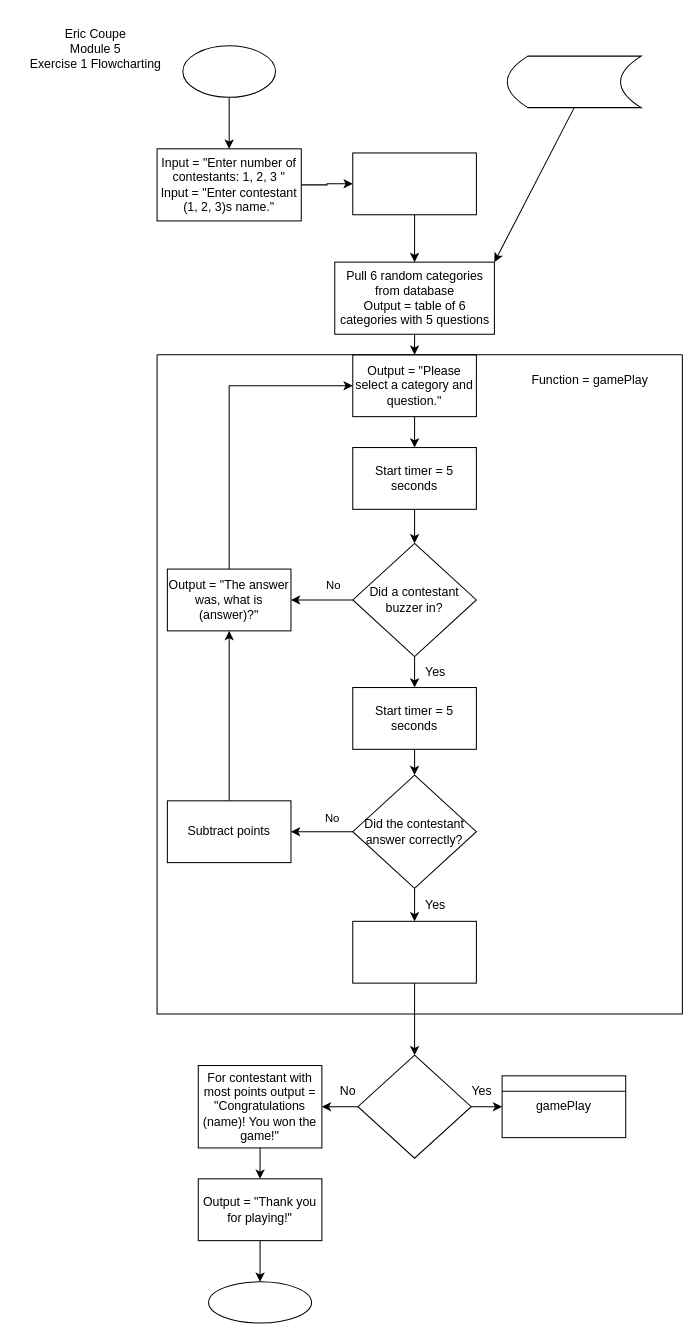
Image size: 700x1341. Some labels were removed from this diagram. The centre of each missing label's shape, as x and y in pixels:
Add points to player Remove answered question from table: the point at 414,951
Are there still questions in the table?: the point at 414,1106
Database: Categories->5 questions each: the point at 573,81
End: the point at 260,1302
Output = "Let's! Play! Jeopardy!": the point at 414,183
Start: the point at 229,71
